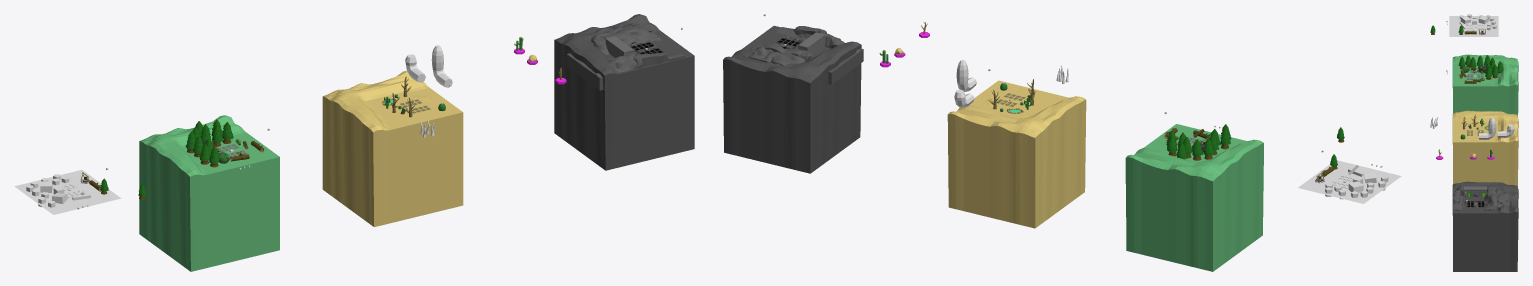
The model's file is Combat Arenas 1.fbx.
3 views of the same model, side by side, from view 1: azimuth 30°, elevation 25°; view 2: azimuth 150°, elevation 25°; view 3: azimuth 270°, elevation 25° (orthographic). The views are drawn at different scales.
Parts seen in each view (by area): view 1: Cube.030, Cube.029, Toxic Base, Cube.070, Plane, Cylinder.053; view 2: Cube.030, Cube.029, Toxic Base, Cube.070, Plane, Toxic temp, Cylinder.053; view 3: Toxic Base, Cube.030, Cube.029, Cube.070, Plane, Toxic temp, Cylinder.053, Cylinder.050, Cylinder.013, Cylinder.034, Cube.013, Cylinder.040 (+1 smaller).
Part boxes in pixels (bbox=[...]): Cube.030: bbox=[322, 70, 463, 227]; Cube.029: bbox=[139, 115, 279, 271]; Toxic Base: bbox=[554, 14, 694, 170]; Cube.070: bbox=[566, 27, 684, 90]; Plane: bbox=[14, 170, 121, 214]; Cylinder.053: bbox=[431, 45, 452, 87]; Cube.030: bbox=[947, 79, 1086, 228]; Cube.029: bbox=[1125, 124, 1263, 271]; Toxic Base: bbox=[723, 25, 861, 173]; Cube.070: bbox=[754, 26, 863, 84]; Plane: bbox=[1298, 160, 1401, 203]; Toxic temp: bbox=[743, 46, 805, 66]; Cylinder.053: bbox=[956, 60, 976, 91]; Toxic Base: bbox=[1452, 181, 1518, 271]; Cube.030: bbox=[1452, 110, 1518, 187]; Cube.029: bbox=[1452, 54, 1518, 116]; Cube.070: bbox=[1453, 185, 1497, 210]; Plane: bbox=[1449, 16, 1498, 36]; Toxic temp: bbox=[1487, 189, 1509, 209]; Cylinder.053: bbox=[1479, 117, 1496, 139]; Cylinder.050: bbox=[1497, 124, 1514, 137]; Cylinder.013: bbox=[1492, 64, 1498, 78]; Cylinder.034: bbox=[1485, 66, 1492, 79]; Cube.013: bbox=[1478, 16, 1488, 24]; Cylinder.040: bbox=[1469, 57, 1476, 70].
Size of the model in its own units: 13255 by 2652 by 2503.
